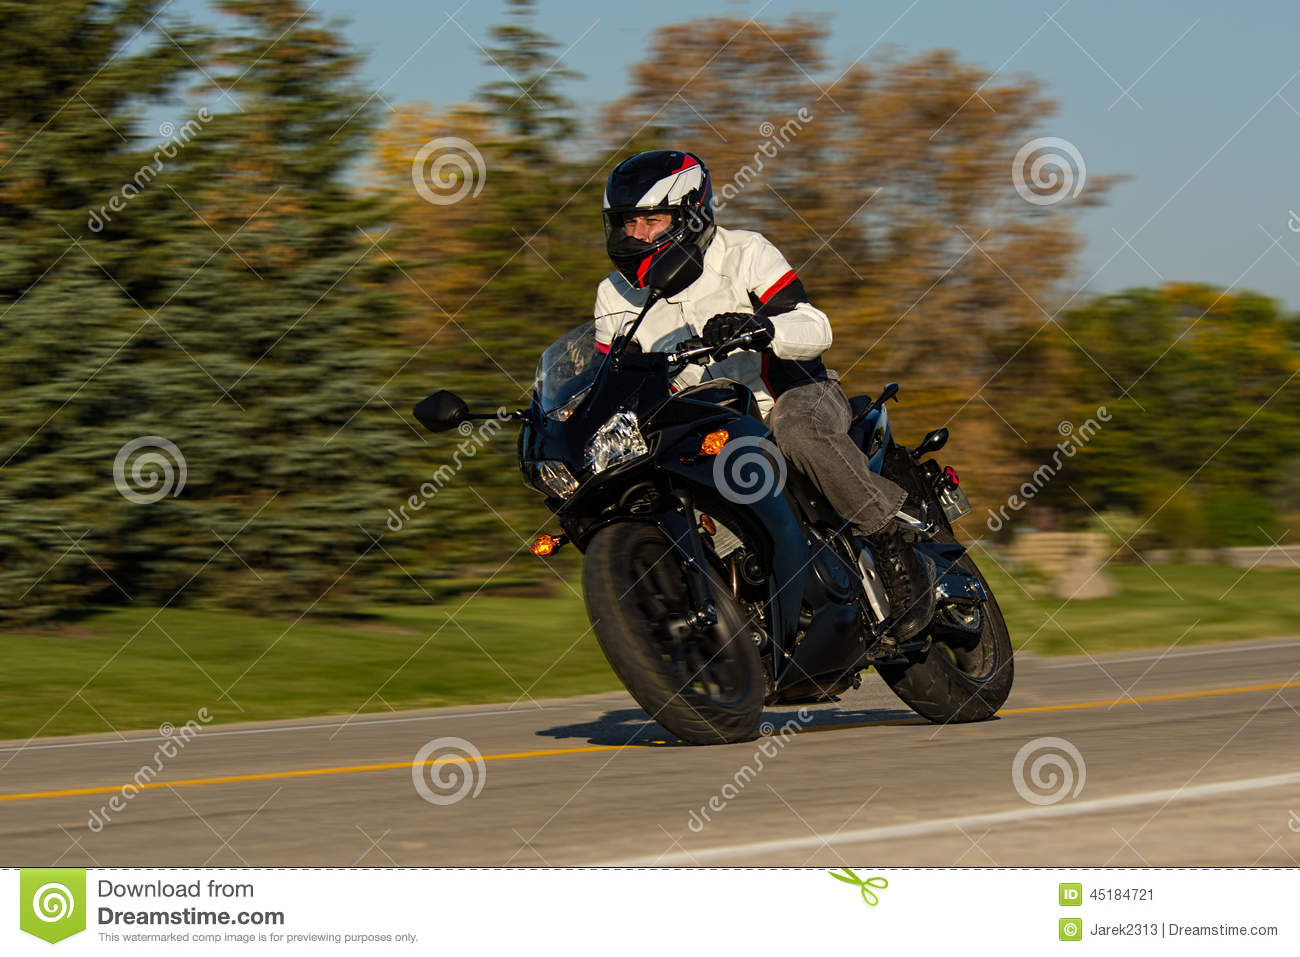helmet: (598, 151, 715, 286)
